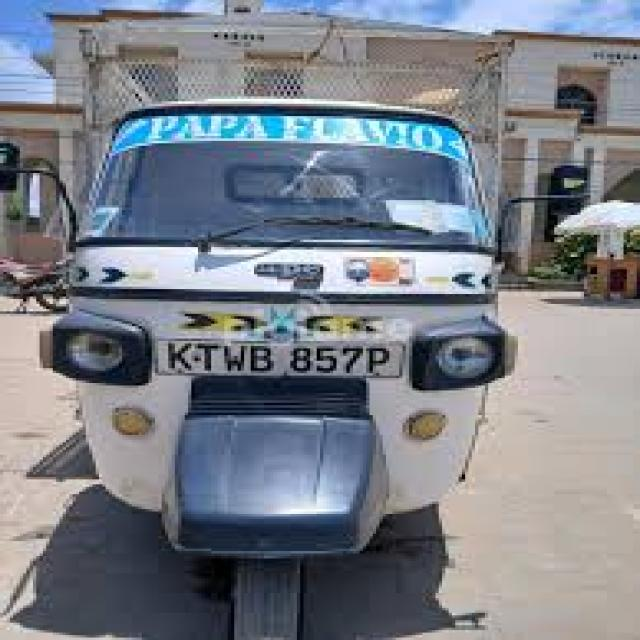tuktuk: (0, 52, 607, 640)
